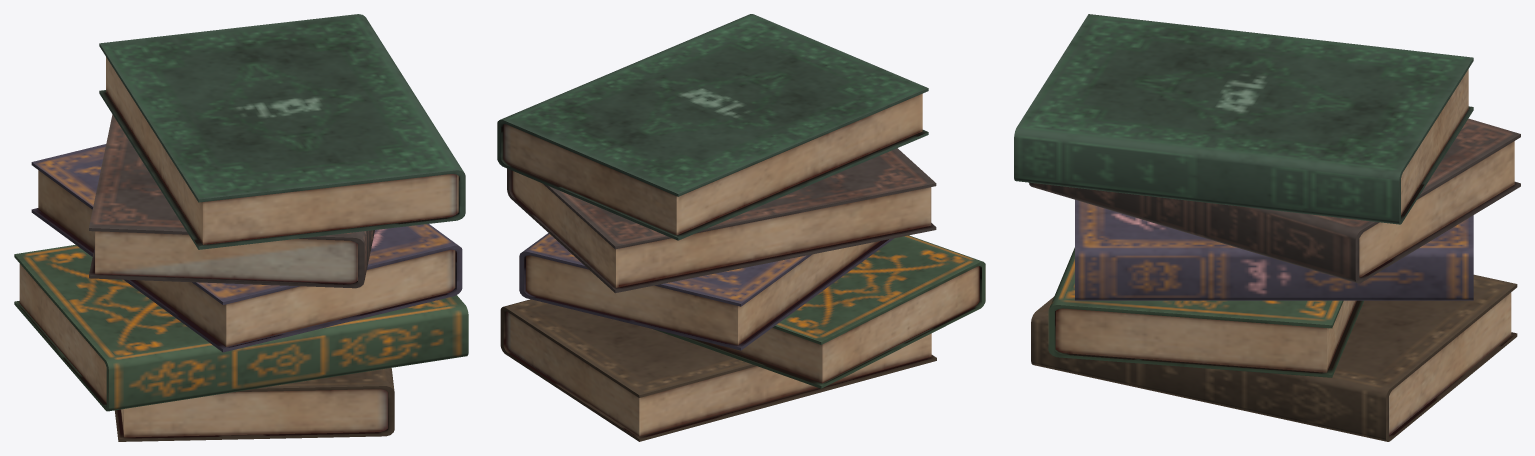
File: sb_obj_indoor048_Books02.fbx
3 views of the same model, side by side, from view 1: azimuth 30°, elevation 25°; view 2: azimuth 150°, elevation 25°; view 3: azimuth 270°, elevation 25° (orthographic). The views are drawn at different scales.
Visible parts, largest first — view 1: sb_obj_indoor048_Books02; view 2: sb_obj_indoor048_Books02; view 3: sb_obj_indoor048_Books02.
Part boxes in pixels (x1,y1,x2,y2): sb_obj_indoor048_Books02: (14, 14, 468, 441); sb_obj_indoor048_Books02: (497, 14, 985, 441); sb_obj_indoor048_Books02: (1014, 14, 1520, 441).
Bounding box in the file's own units: 0.5168 × 0.3156 × 0.5404.
